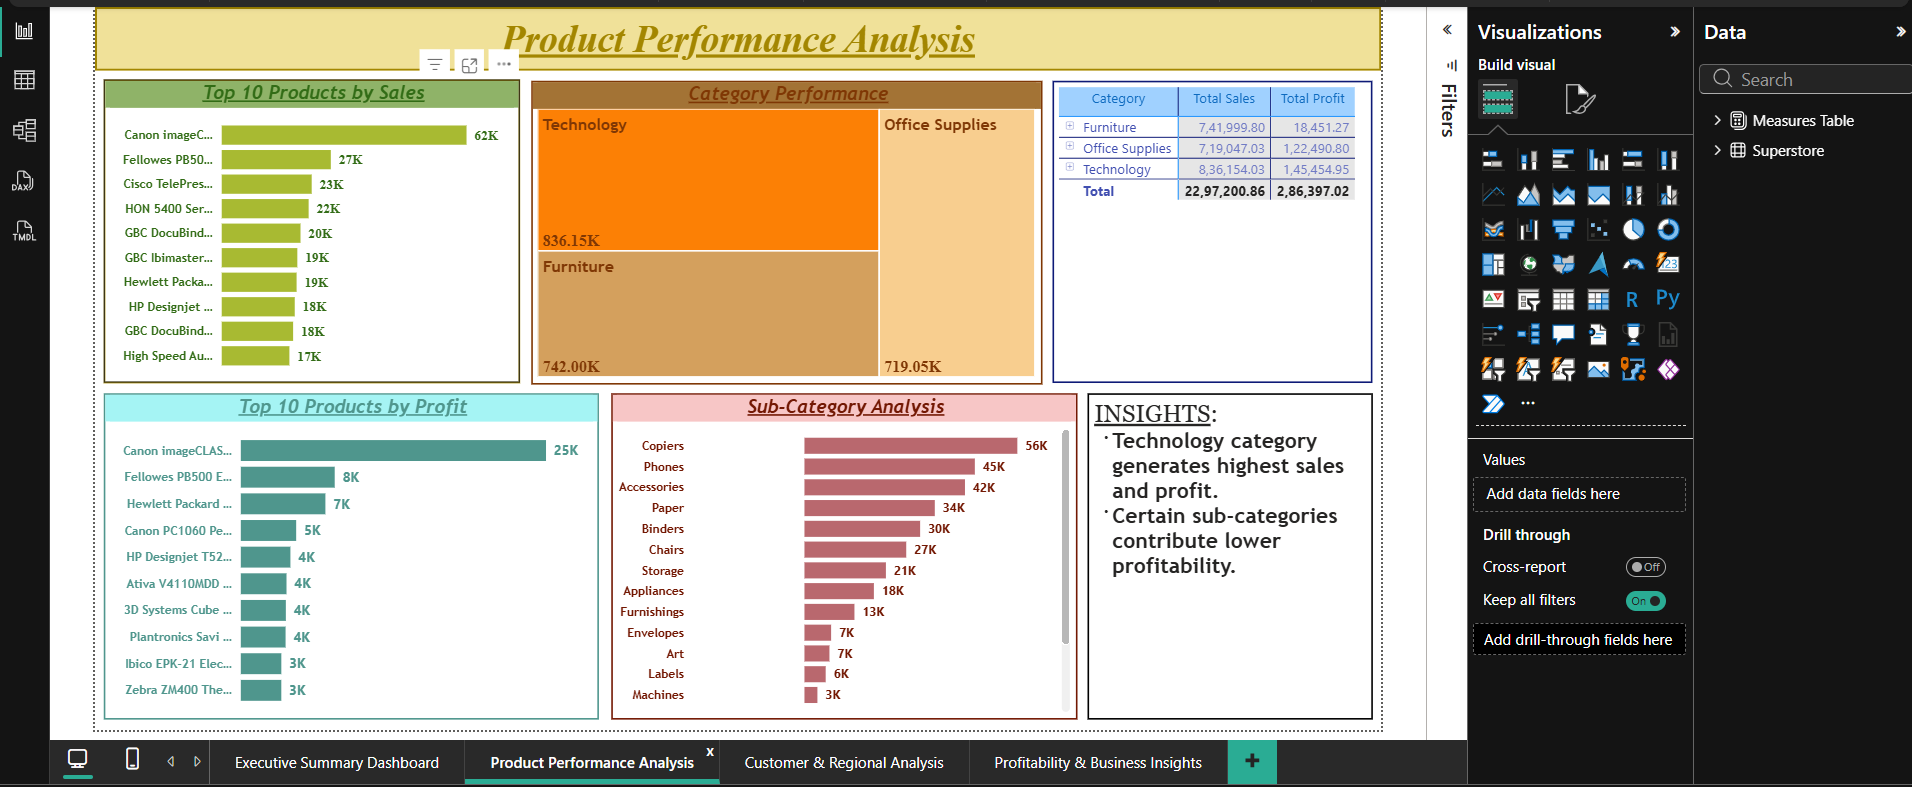

The page's visual inventory and layout, read from the dashboard file:
{"tool":"powerbi","page":{"name":"Product Performance Analysis","canvas":[1280,720],"ordinal":1},"visuals":[{"type":"shape","box":[0,0,1280,63.4],"z":0},{"type":"clusteredBarChart","title":"Top 10 Products by Sales","fields":{"Category":["Superstore.Product Name"],"Y":["Sum(Superstore.Sales)"]},"box":[8.7,72.1,414.2,302.3],"z":1000},{"type":"clusteredBarChart","title":"Top 10 Products by Profit","fields":{"Category":["Superstore.Product Name"],"Y":["Sum(Superstore.Profit)"]},"box":[8.7,384.4,492.6,324.7],"z":2000},{"type":"treemap","title":"Category Performance","fields":{"Values":["Sum(Superstore.Sales)"],"Group":["Superstore.Category"]},"box":[434.1,73.4,508.8,302.3],"z":3000},{"type":"clusteredBarChart","title":"Sub-Category Analysis","fields":{"Category":["Superstore.Sub-Category"],"Y":["Sum(Superstore.Profit)"]},"box":[513.8,384.4,464,324.7],"z":4000},{"type":"pivotTable","fields":{"Rows":["Superstore.Category","Superstore.Sub-Category"],"Values":["Sum(Superstore.Sales)","Sum(Superstore.Profit)"]},"box":[952.9,73.4,318.5,301],"z":5000},{"type":"textbox","box":[987.7,384.4,283.6,324.7],"z":6000}]}

Visuals, with their boxes on the page's 1280x720 design canvas (x1, y1, x2, y2). These are canvas units, not pixel positions in the 1912x787 screenshot, which may show the page scaled, cropped or inside an application window:
shape: 0, 0, 1280, 63
"Top 10 Products by Sales" clusteredBarChart: 9, 72, 423, 374
"Top 10 Products by Profit" clusteredBarChart: 9, 384, 501, 709
"Category Performance" treemap: 434, 73, 943, 376
"Sub-Category Analysis" clusteredBarChart: 514, 384, 978, 709
pivotTable - Superstore.Category x Superstore.Sub-Category: 953, 73, 1271, 374
textbox: 988, 384, 1271, 709
